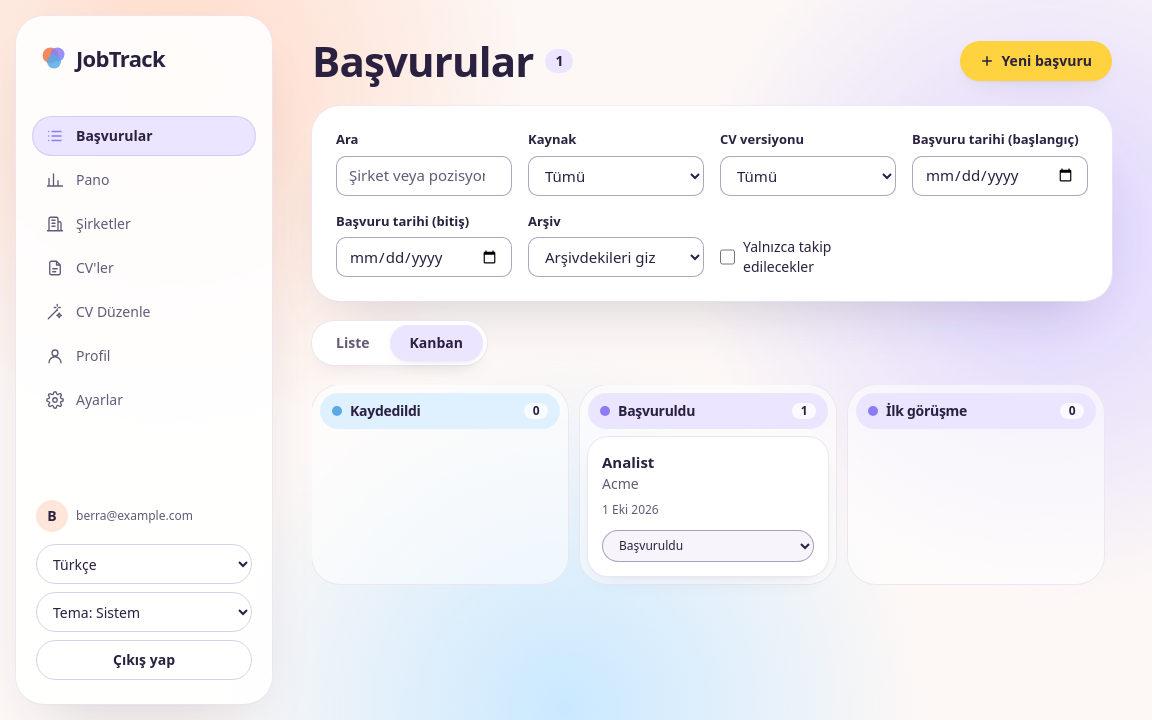
it: Kanban (FR-09, WCAG 2.5.7) › sunucu reddederse kart eski sütuna döner ve hata gösterilir
Select "Teklif" in the dropdown named "Analist başvurusunun aşaması" below "Analist" at (708, 546), box [602,530,814,562]
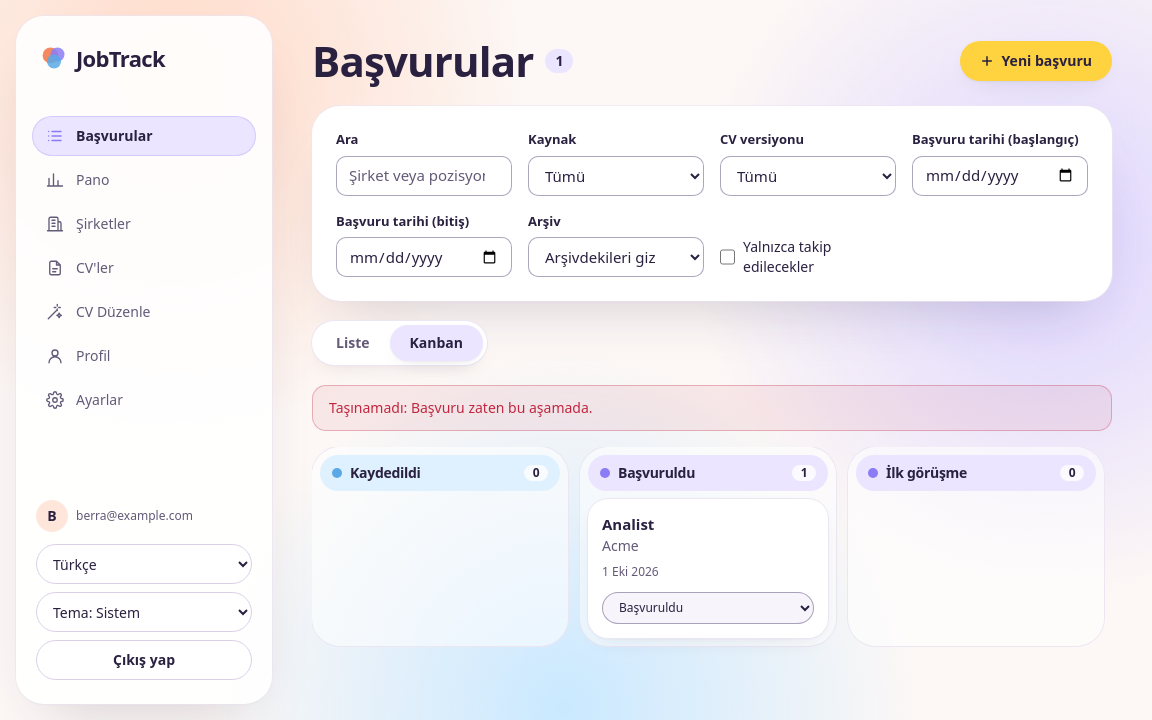
Expected: the link "Analist" is shown, [602,514,654,534]
Expected: the message shows "Taşınamadı", [329,398,593,417]
